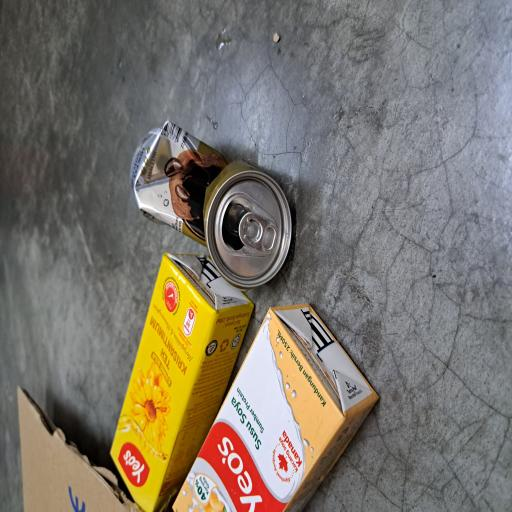can: (167, 175, 295, 393)
cardboard: (0, 23, 98, 192)
drink carton: (0, 229, 159, 505), (0, 146, 196, 340)
pop tab: (196, 318, 226, 370)
